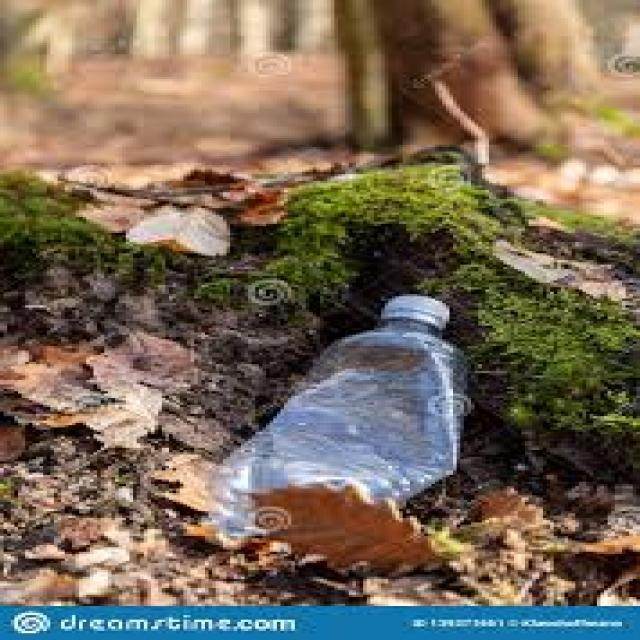plastic_bottle: (210, 295, 463, 536)
